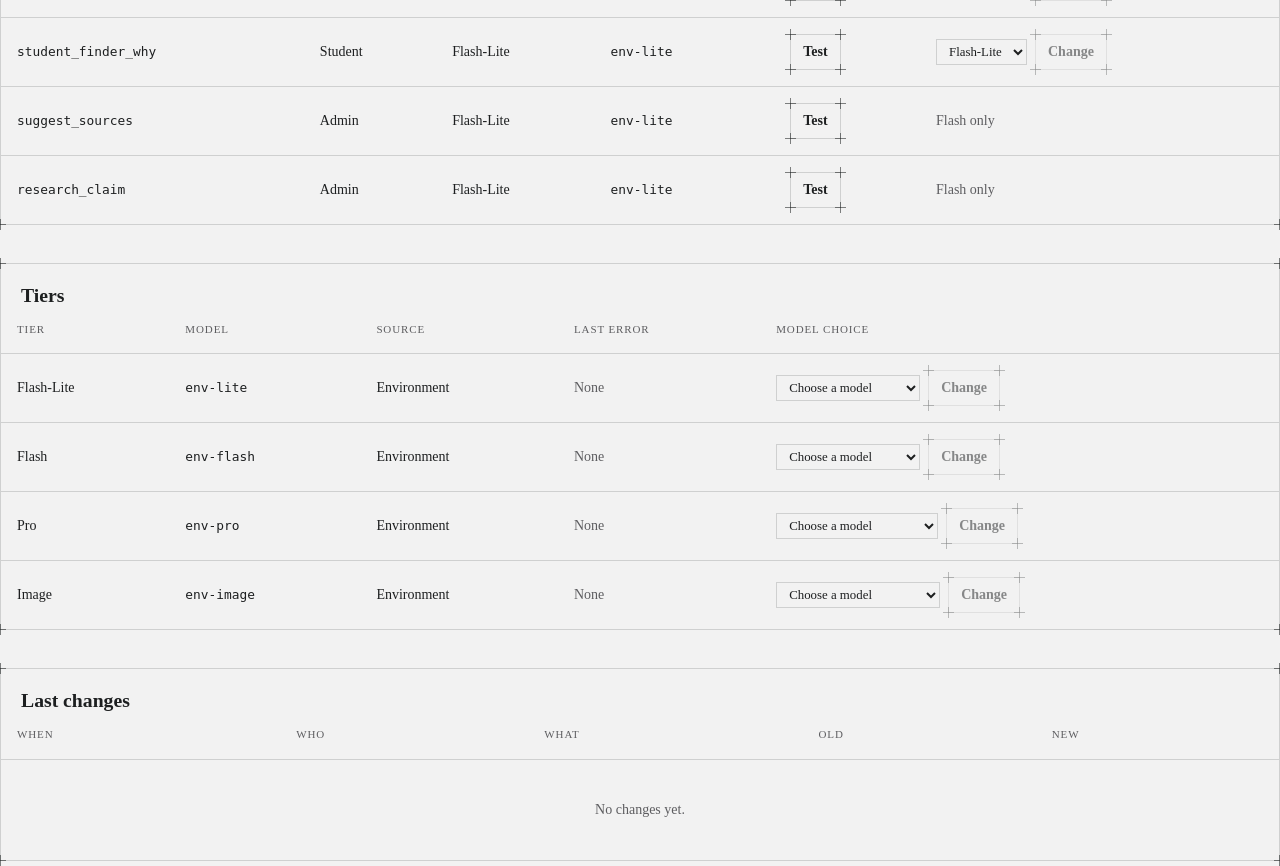
saves a chosen model through saveTierModel and shows the refusal when its test fails
(page scrolled)
Select "gemini-3.8-flash" in the dropdown named "Model for Flash" at [848, 457], box 776,444 -> 920,470
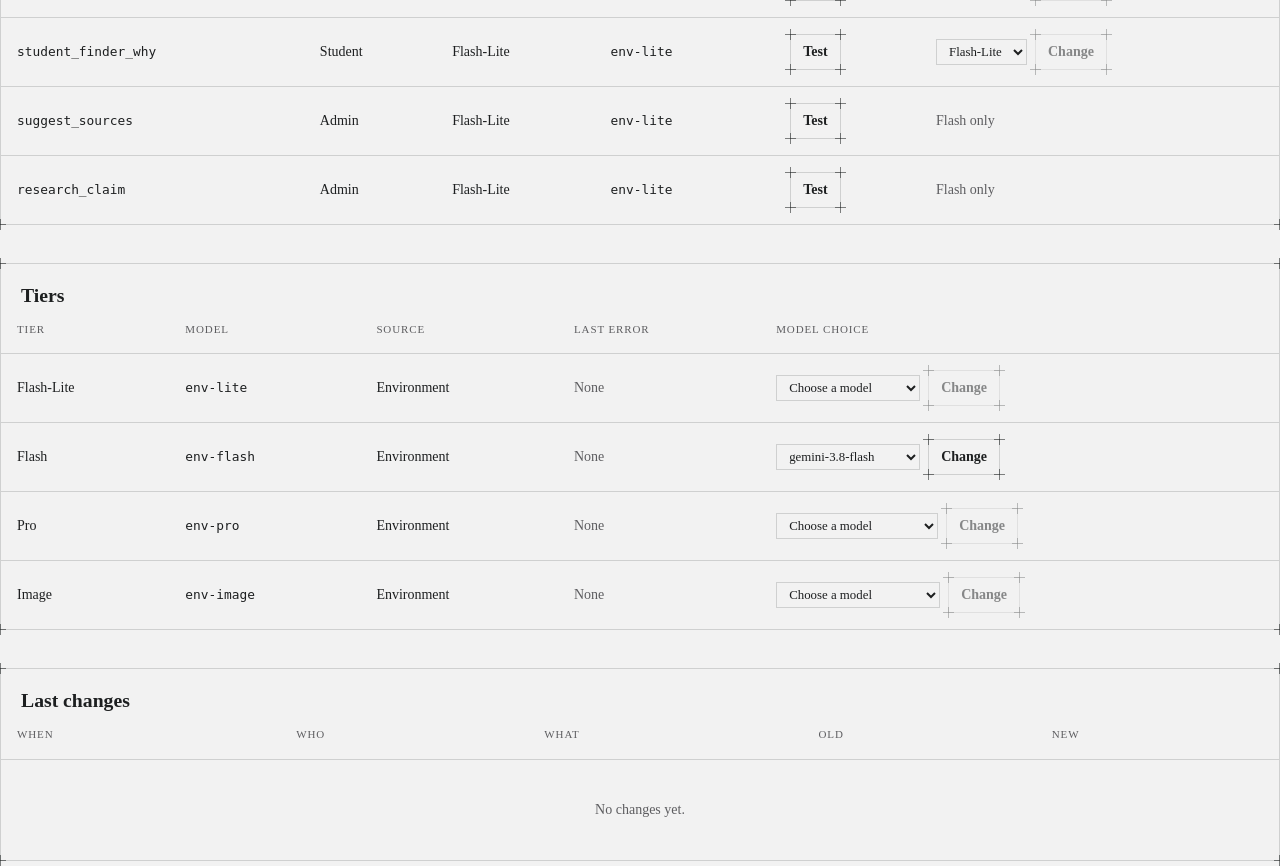
Click the button "Change".
click(964, 457)  # box 928,439 -> 1000,475
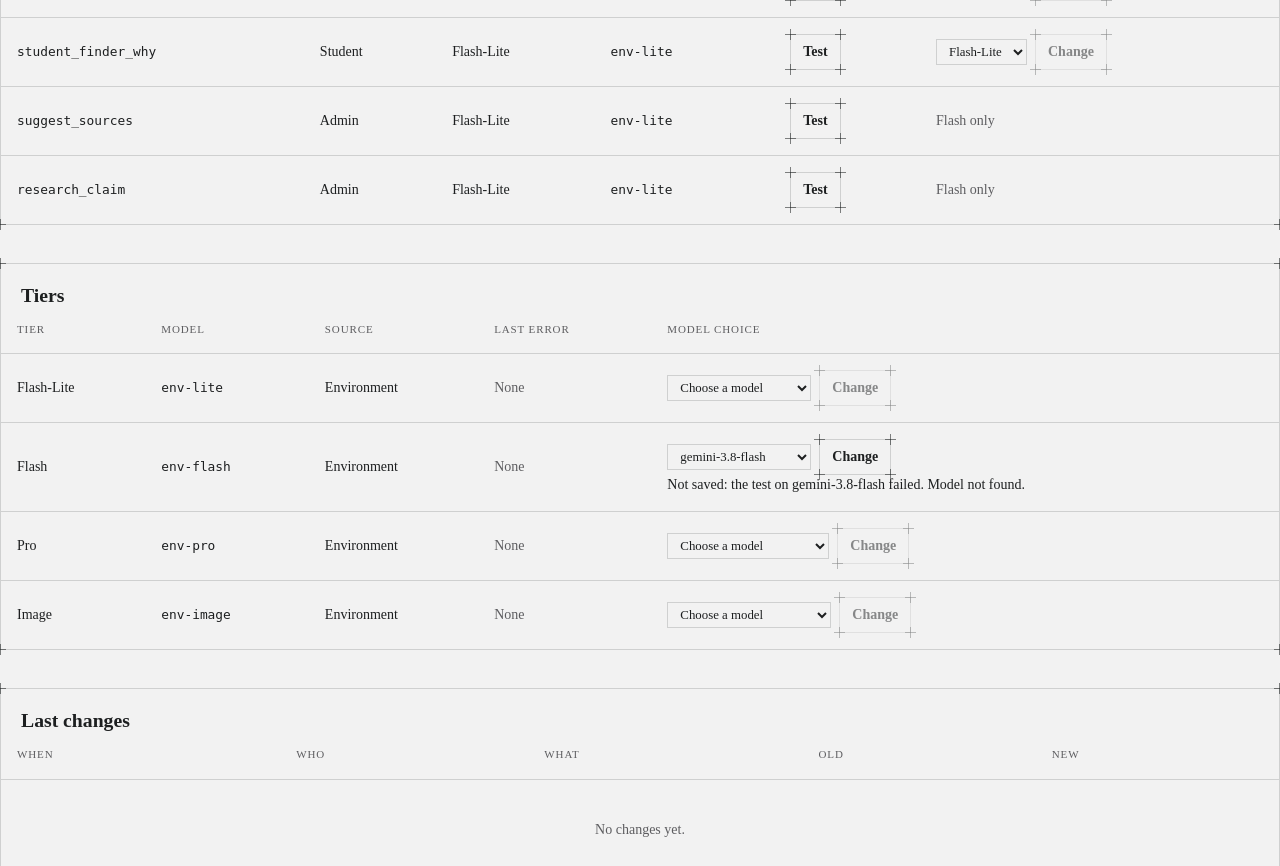
Now the text "Not saved: the test on gemini-3.8-flash failed. Model not found." is shown, box 667,477 -> 1025,492
